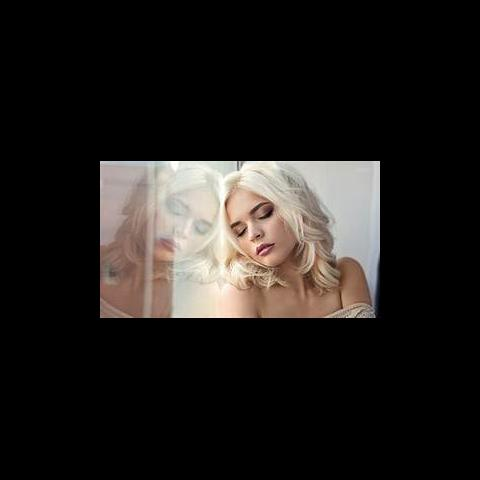closed: (221, 203, 278, 234)
